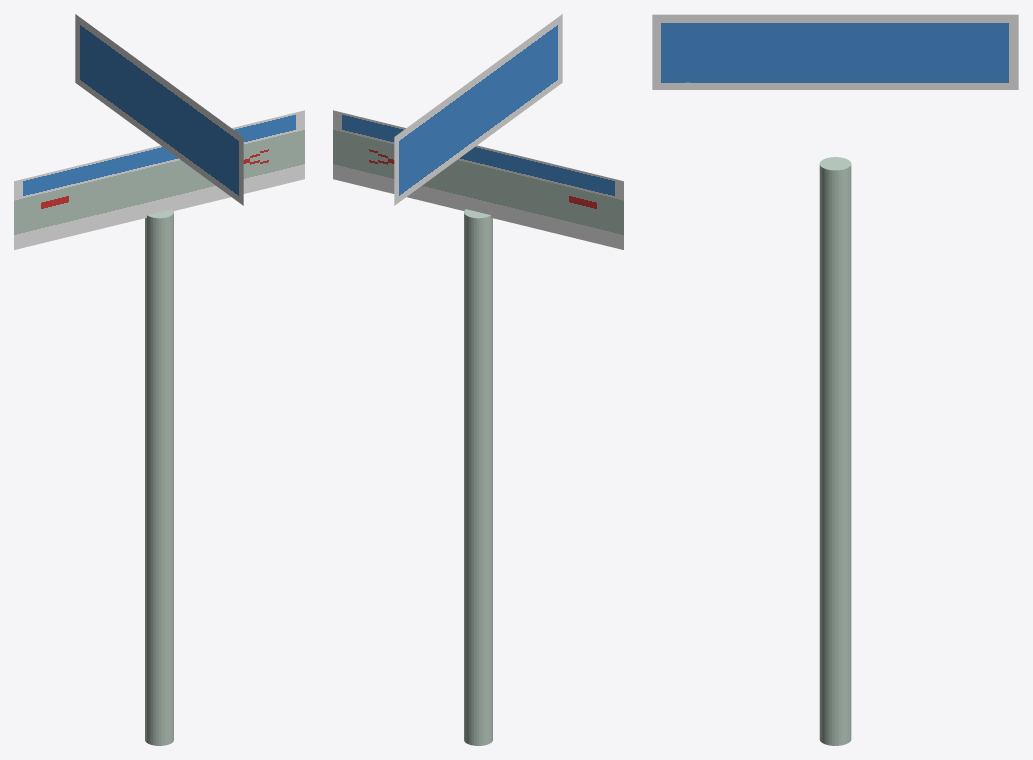
The model's file is lupai.glb.
The picture shows the model from 3 angles, left to right: view 1: azimuth 30°, elevation 25°; view 2: azimuth 150°, elevation 25°; view 3: azimuth 270°, elevation 25°; orthographic projection. The views are drawn at different scales.
Visible parts, largest first — view 1: 平面, 柱体, 平面.001; view 2: 平面, 柱体, 平面.001; view 3: 平面.001, 柱体.
Part boxes in pixels (left/top/right/bottom): 平面: left=14, top=110, right=304, bottom=249; 柱体: left=145, top=209, right=173, bottom=745; 平面.001: left=75, top=14, right=243, bottom=205; 平面: left=333, top=110, right=623, bottom=249; 柱体: left=464, top=209, right=492, bottom=745; 平面.001: left=394, top=14, right=562, bottom=205; 平面.001: left=652, top=14, right=1018, bottom=89; 柱体: left=819, top=157, right=851, bottom=745.
Bounding box in the file's own units: 0.577 × 1.26 × 0.577.
3 materials, 3 textured.
